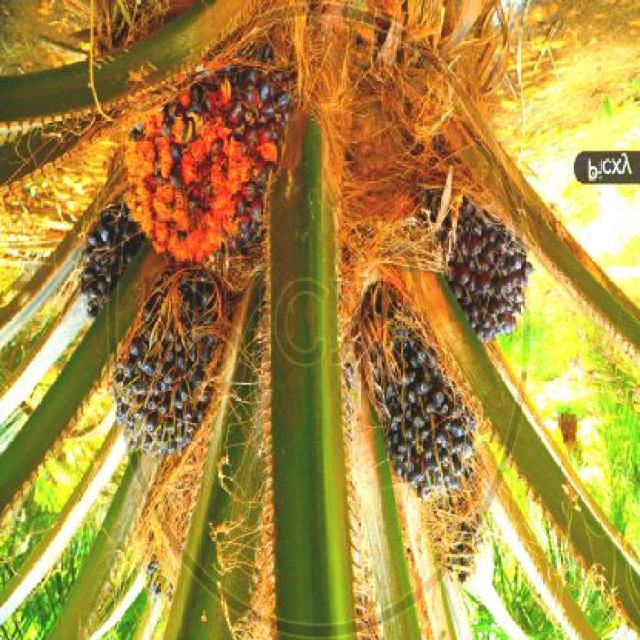palm-oil: (71, 178, 235, 456), (134, 26, 288, 259), (365, 301, 477, 512), (410, 179, 538, 342)
